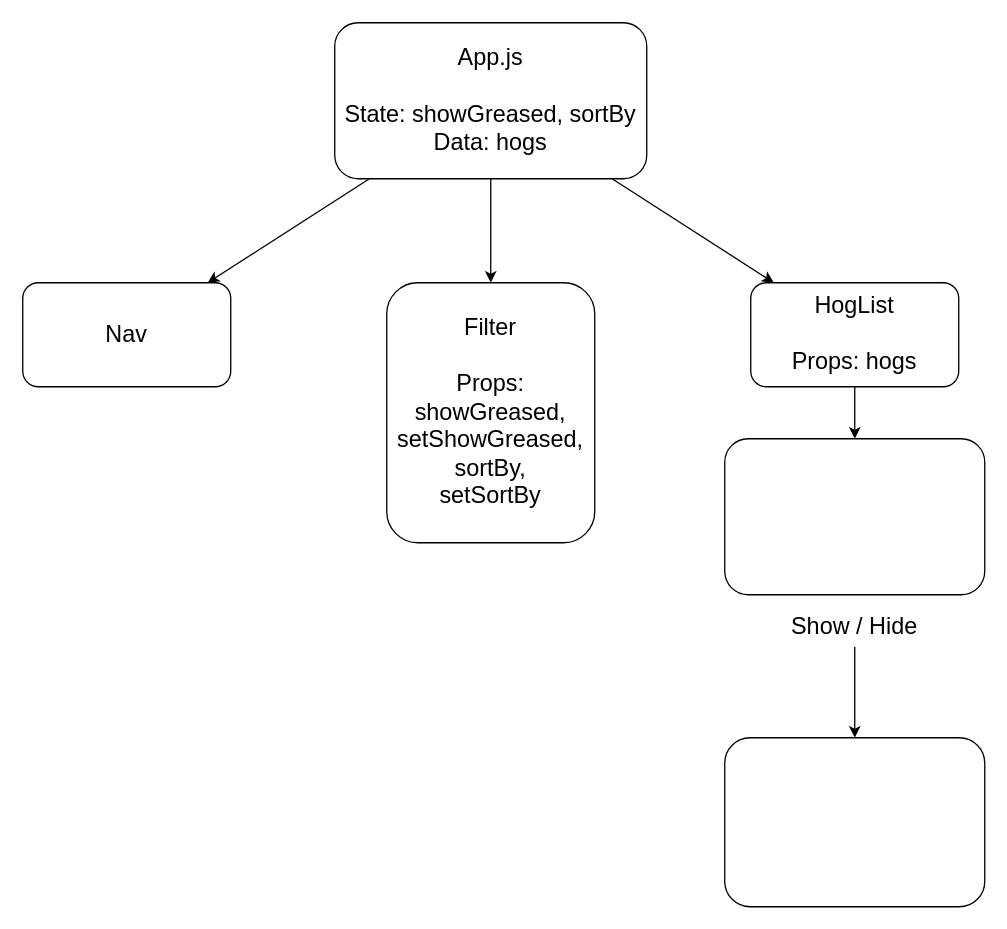
The diagram is 1007 pixels wide and 929 high, and some of its shapes have lost their labels. The shapes that lost their labels are listed below. From the top down, each one's box as (x1, y1, x2, y2) in pixels, then its label:
(723, 437, 985, 595): HogTile Props: hog State: showDetails
(723, 736, 985, 907): HogDetails Props: hog (or each relevant hog detail separately)
